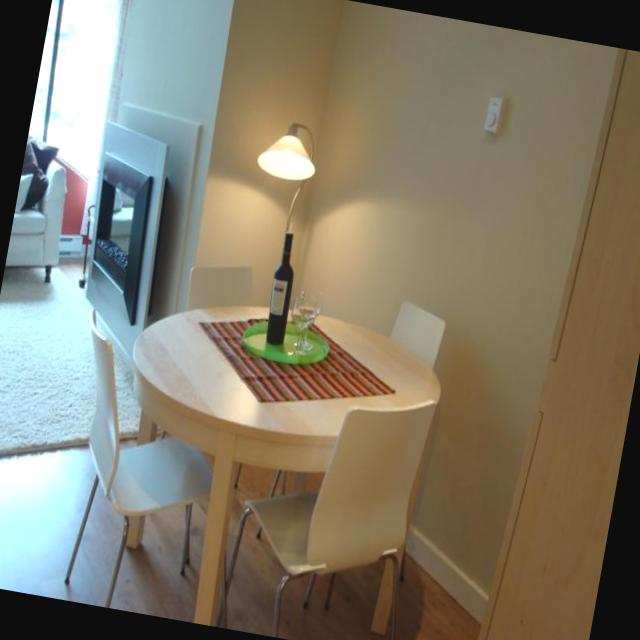chair: (40, 306, 240, 622), (214, 367, 439, 640)
cupboard: (466, 40, 640, 640)
curtains: (11, 0, 142, 243)
glass: (293, 288, 325, 352)
rugs: (0, 254, 182, 492)
sofa: (3, 132, 80, 284)
table: (87, 279, 452, 640)
table-lamp: (226, 114, 324, 345)
